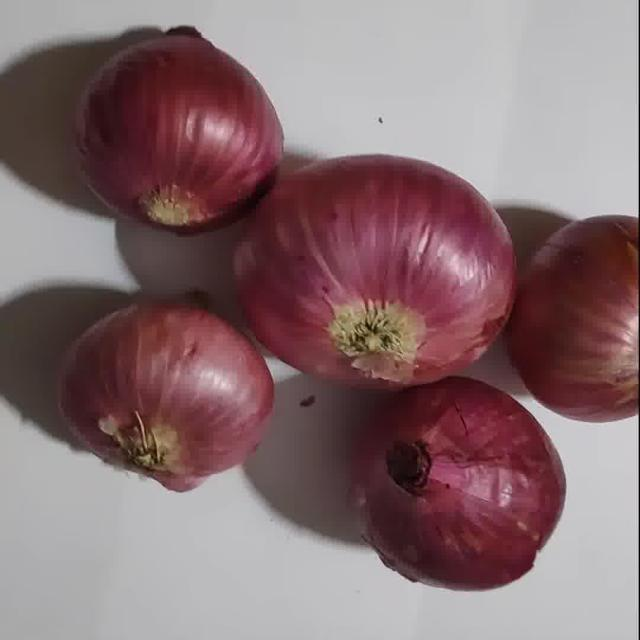Onion: (235, 155, 516, 388), (352, 378, 565, 590), (59, 295, 273, 491), (79, 28, 283, 233), (506, 216, 638, 421)
